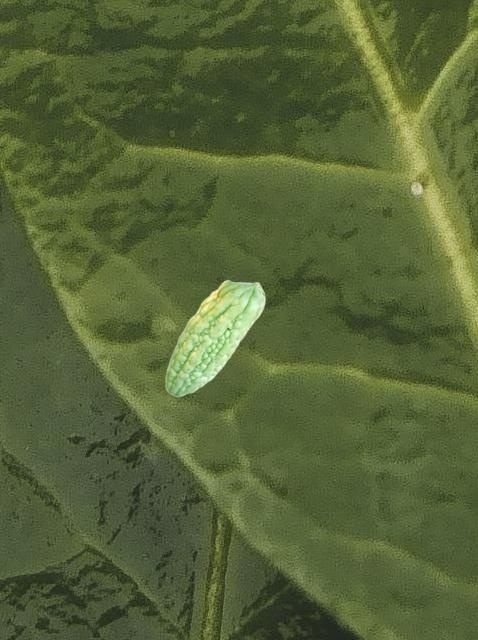ampalaya: (164, 279, 267, 397)
